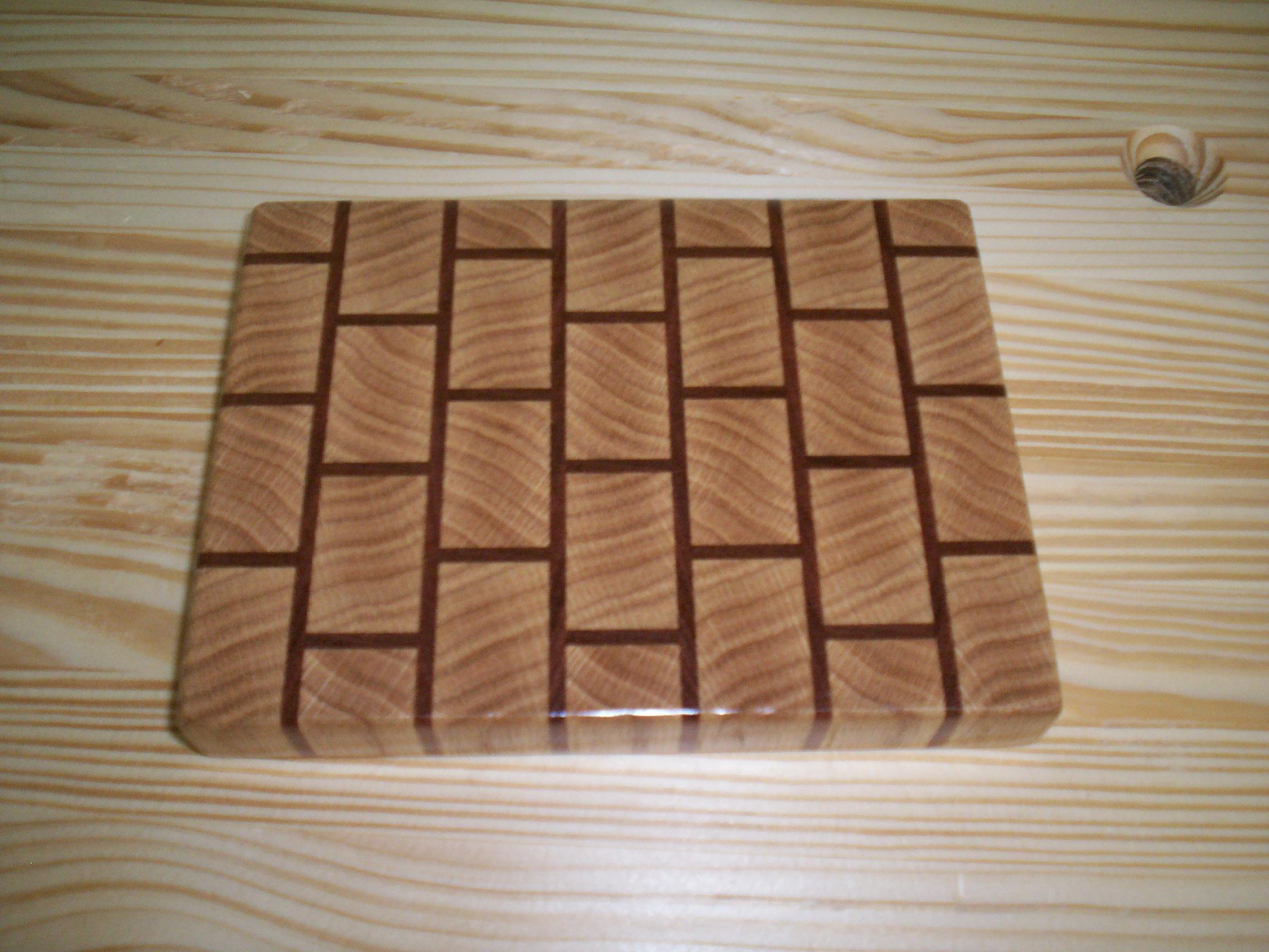gloved_hand: (155, 169, 1077, 784)
